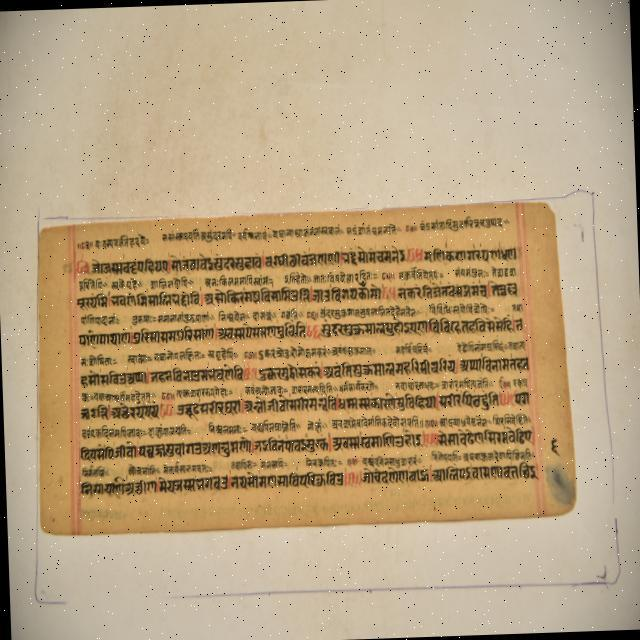text_paragraph: (40, 200, 578, 531)
